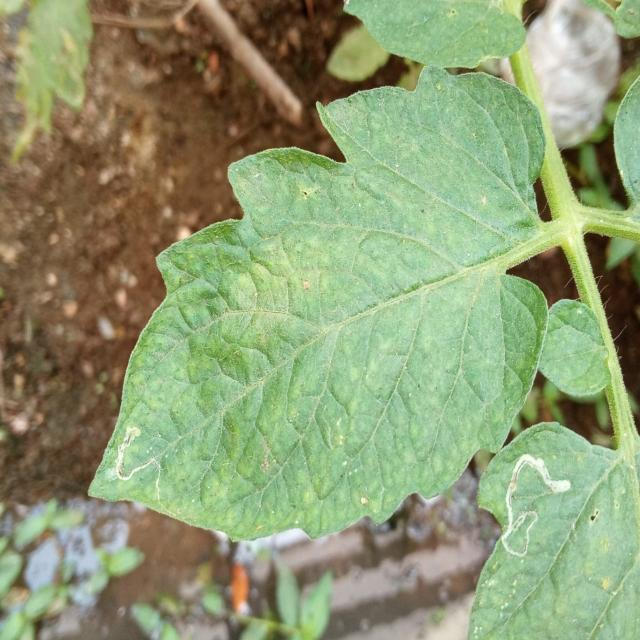Tuta absoluta: (467, 444, 574, 551), (114, 426, 164, 502)
